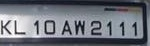character: (13, 18, 27, 35), (89, 20, 103, 36), (43, 19, 56, 35), (60, 19, 73, 35), (1, 19, 13, 36), (74, 19, 86, 36), (118, 20, 126, 37), (131, 20, 139, 37), (33, 19, 40, 35), (106, 20, 113, 36)
